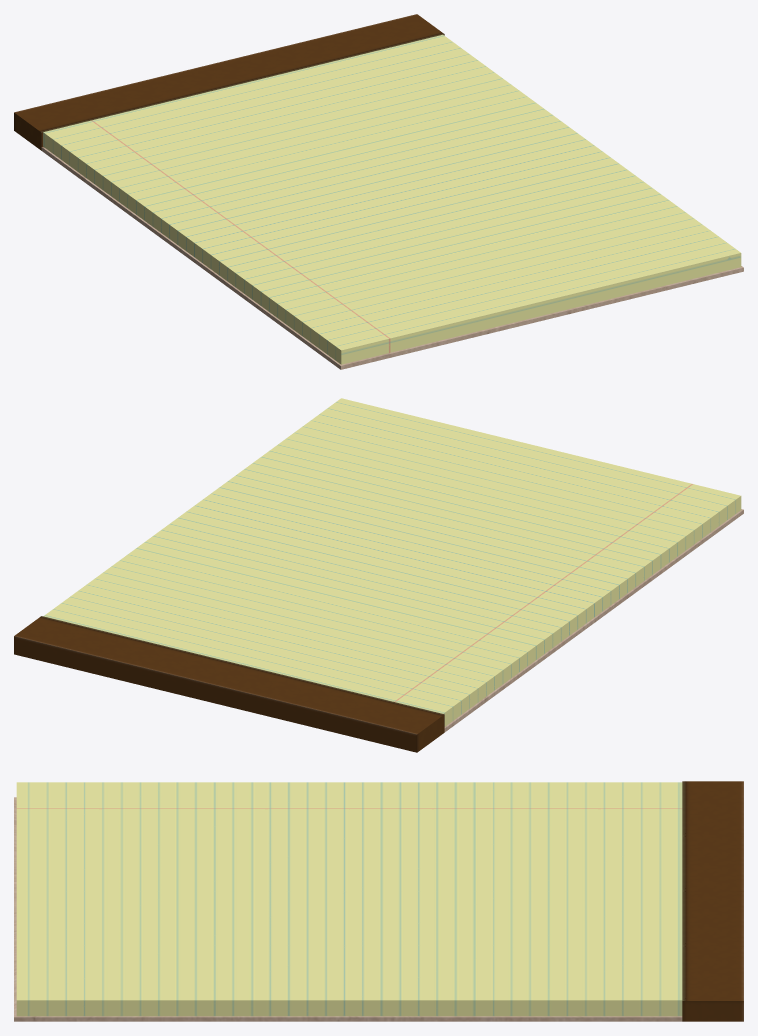
Rendered from LegalPad.glb.
3 renders of one model, top to bottom at view 1: azimuth 30°, elevation 25°; view 2: azimuth 150°, elevation 25°; view 3: azimuth 270°, elevation 25°, orthographic. The views are drawn at different scales.
Parts seen in each view (by area): view 1: Legal Pad; view 2: Legal Pad; view 3: Legal Pad.
Part boxes in pixels (bbox=[...]): Legal Pad: bbox=[14, 14, 743, 369]; Legal Pad: bbox=[14, 398, 743, 752]; Legal Pad: bbox=[14, 781, 743, 1021].
Bounding box in the file's own units: 2 × 0.0868 × 2.81.
1 material, 1 textured.
